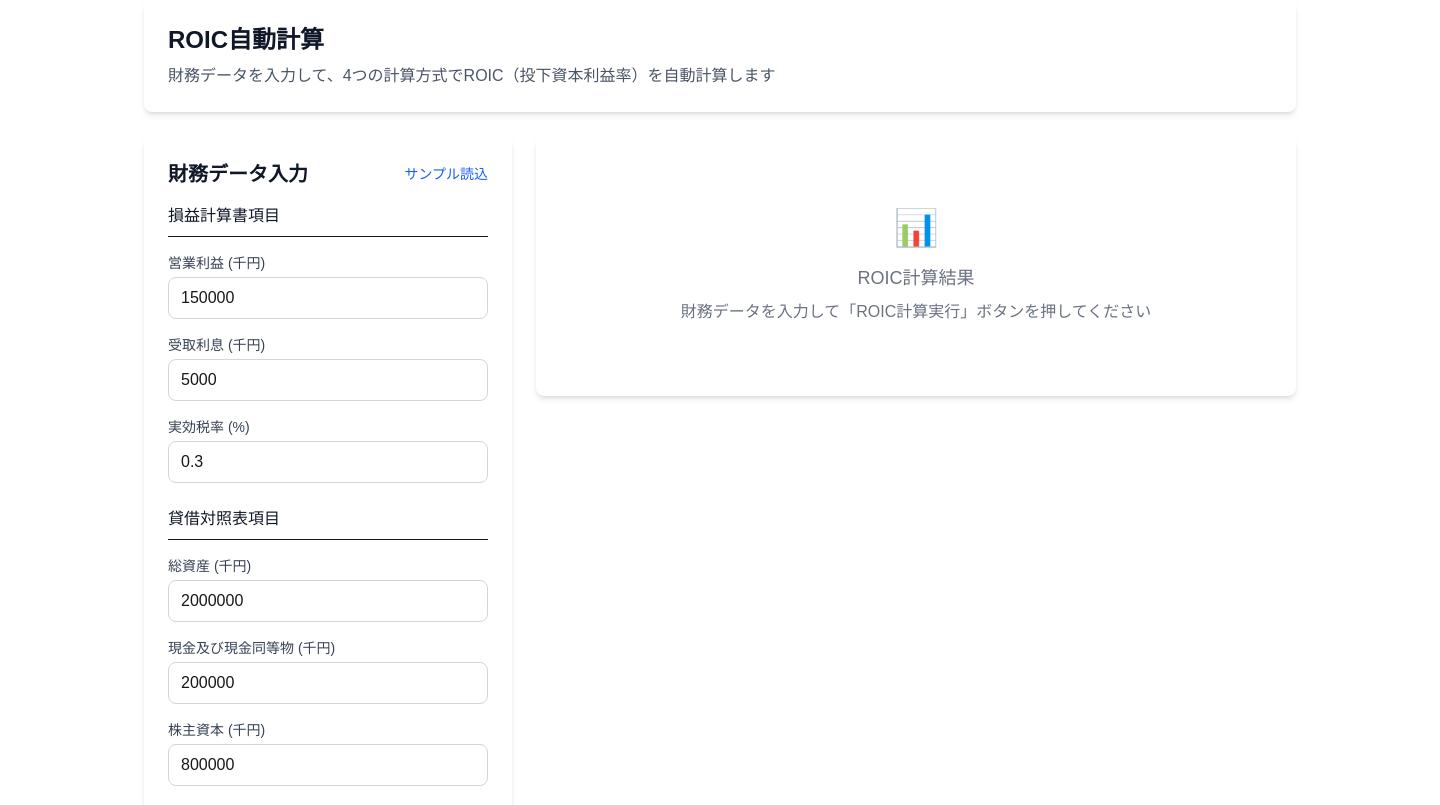
Scenario: ROICCalculator コンポーネント › 計算方式選択機能 › 各計算方式の説明が正しく表示される
Click the button "サンプル読込" at (446,174), box [404,164,488,184]
(page scrolled)
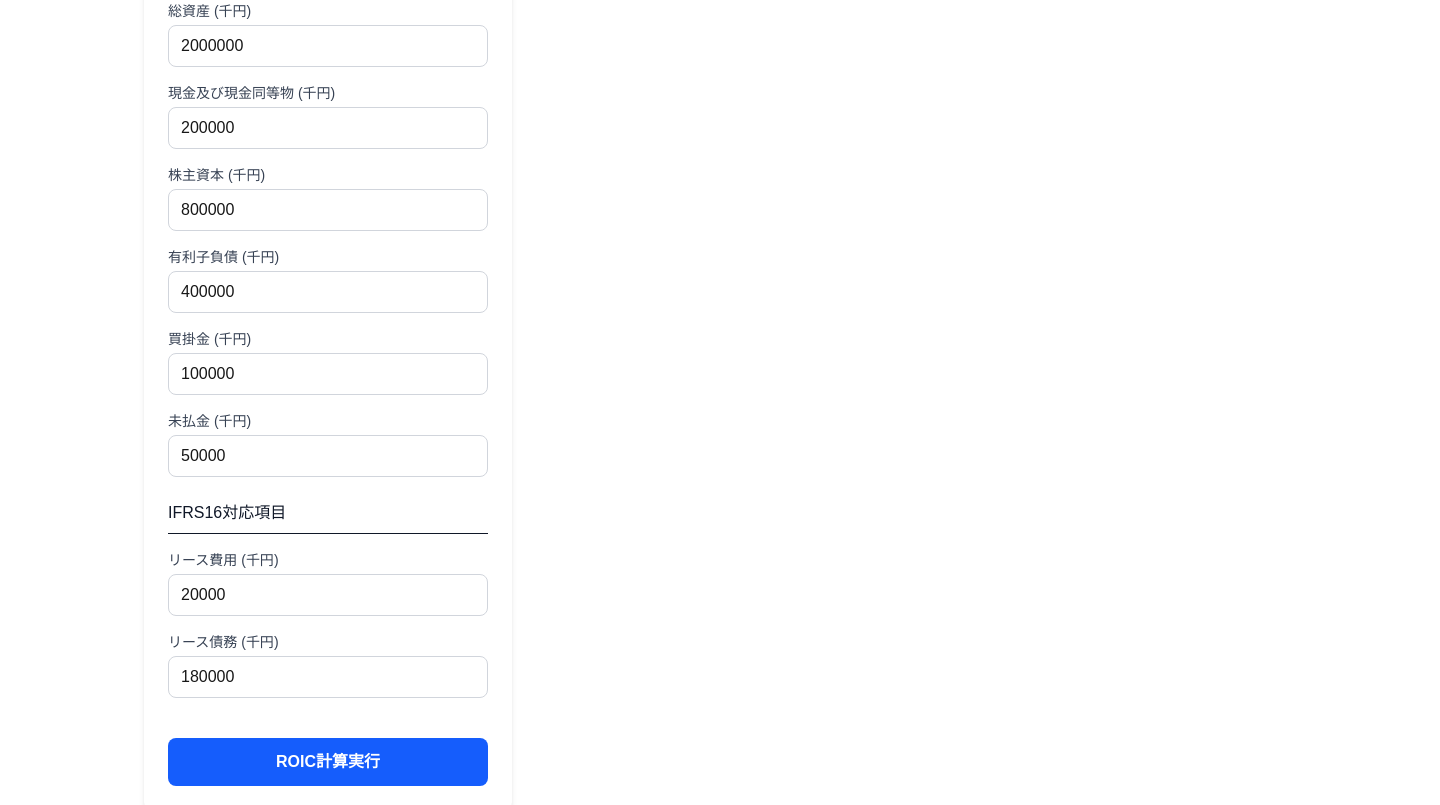
Click the button "ROIC計算実行" at (328,762), box [168,738,488,786]
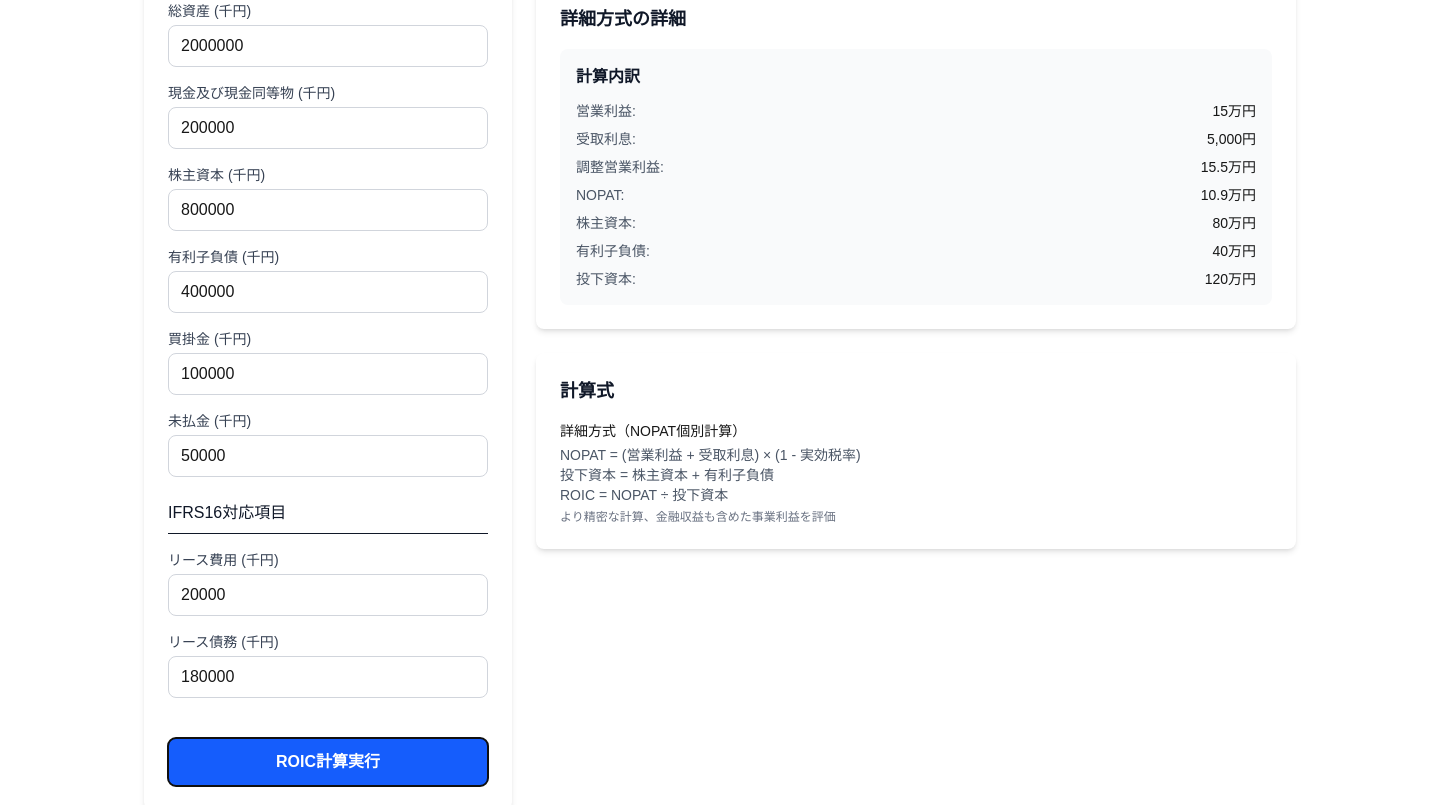
Expected: the heading "詳細方式の詳細" is shown, [560,9,686,29]
Expected: the text "詳細方式（NOPAT個別計算）" is shown, [560,423,746,439]
Expected: the text "より精密な計算、金融収益も含めた事業利益を評価" is shown, [560,510,836,524]
